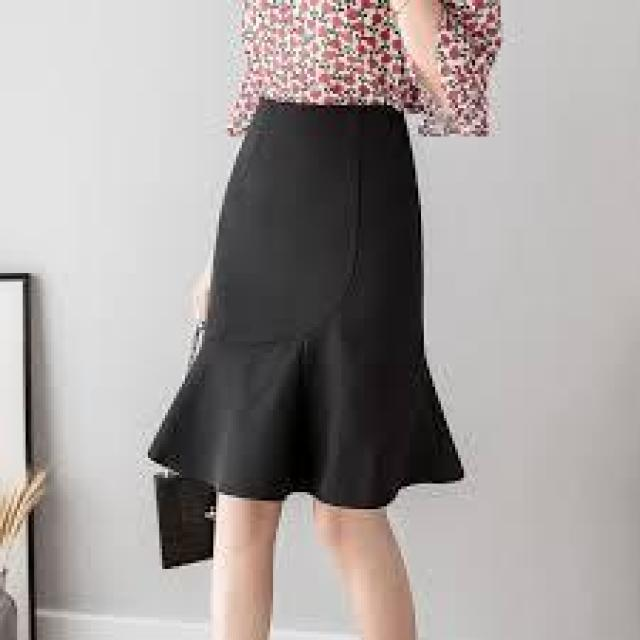skirt: (154, 92, 464, 514)
